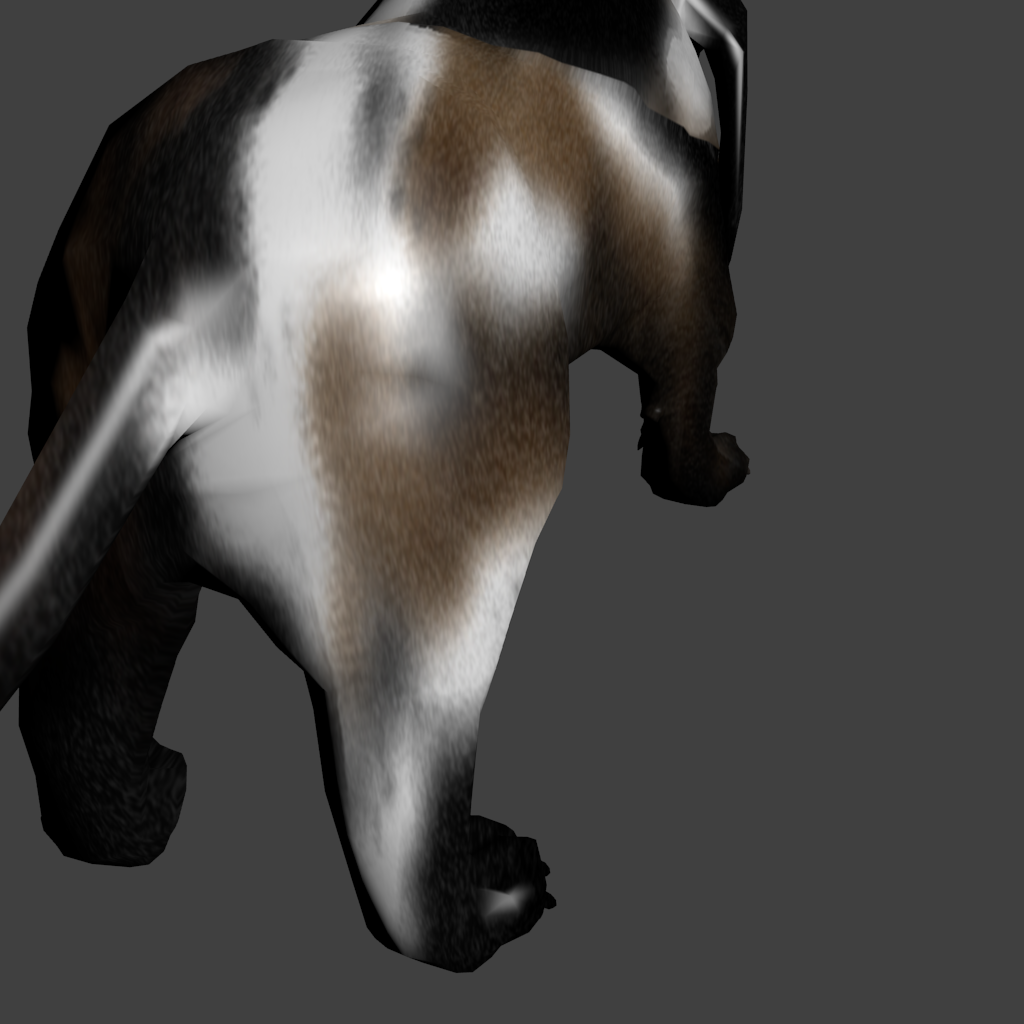Dog: (0, 0, 750, 1024)
